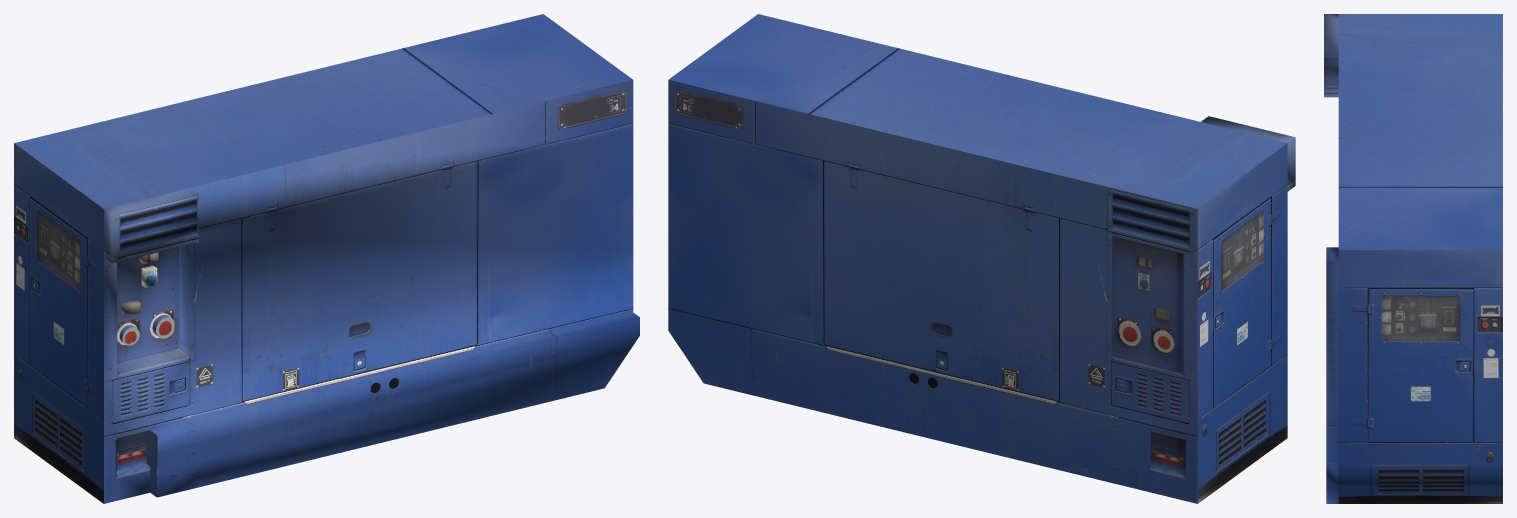
File: industrial28.obj
3 renders of one model, left to right at view 1: azimuth 30°, elevation 25°; view 2: azimuth 150°, elevation 25°; view 3: azimuth 270°, elevation 25°, orthographic. The views are drawn at different scales.
Parts seen in each view (by area): view 1: industrial28; view 2: industrial28; view 3: industrial28.
Boxes of the visible parts, x1,y1,x2,y2 form: industrial28: (14,14,639,503); industrial28: (668,14,1295,503); industrial28: (1324,14,1502,503).
Size of the model in its own units: 173 by 92.28 by 55.48.
1 material, 1 textured.
